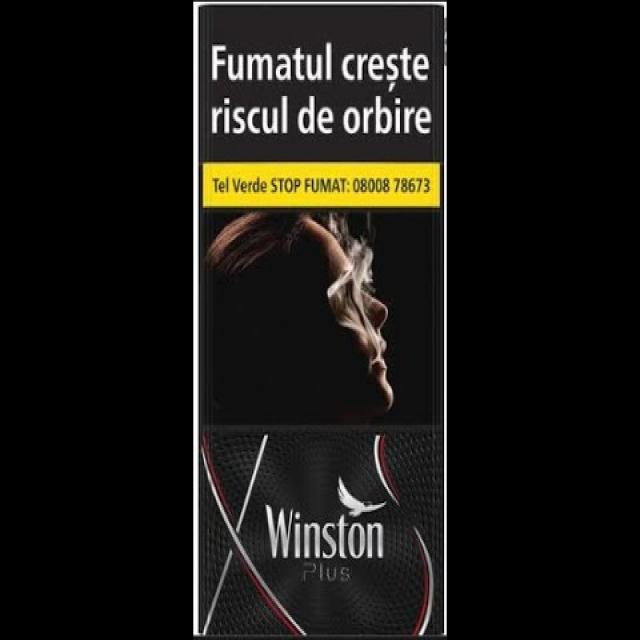winston: (197, 5, 444, 640)
